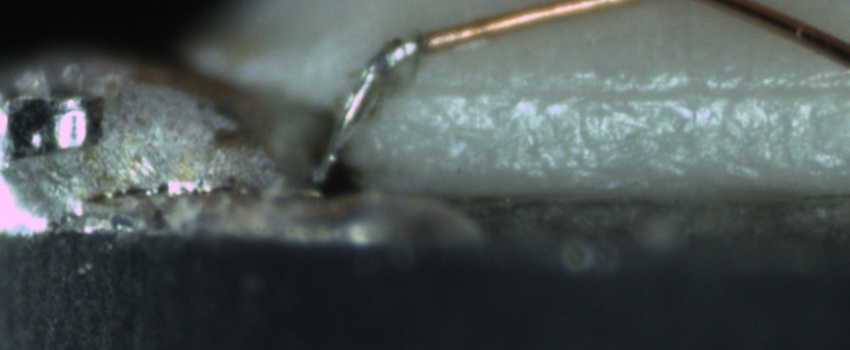DL: (373, 55, 850, 121)
TS: (314, 35, 426, 186)
TTCW: (307, 26, 472, 186)
